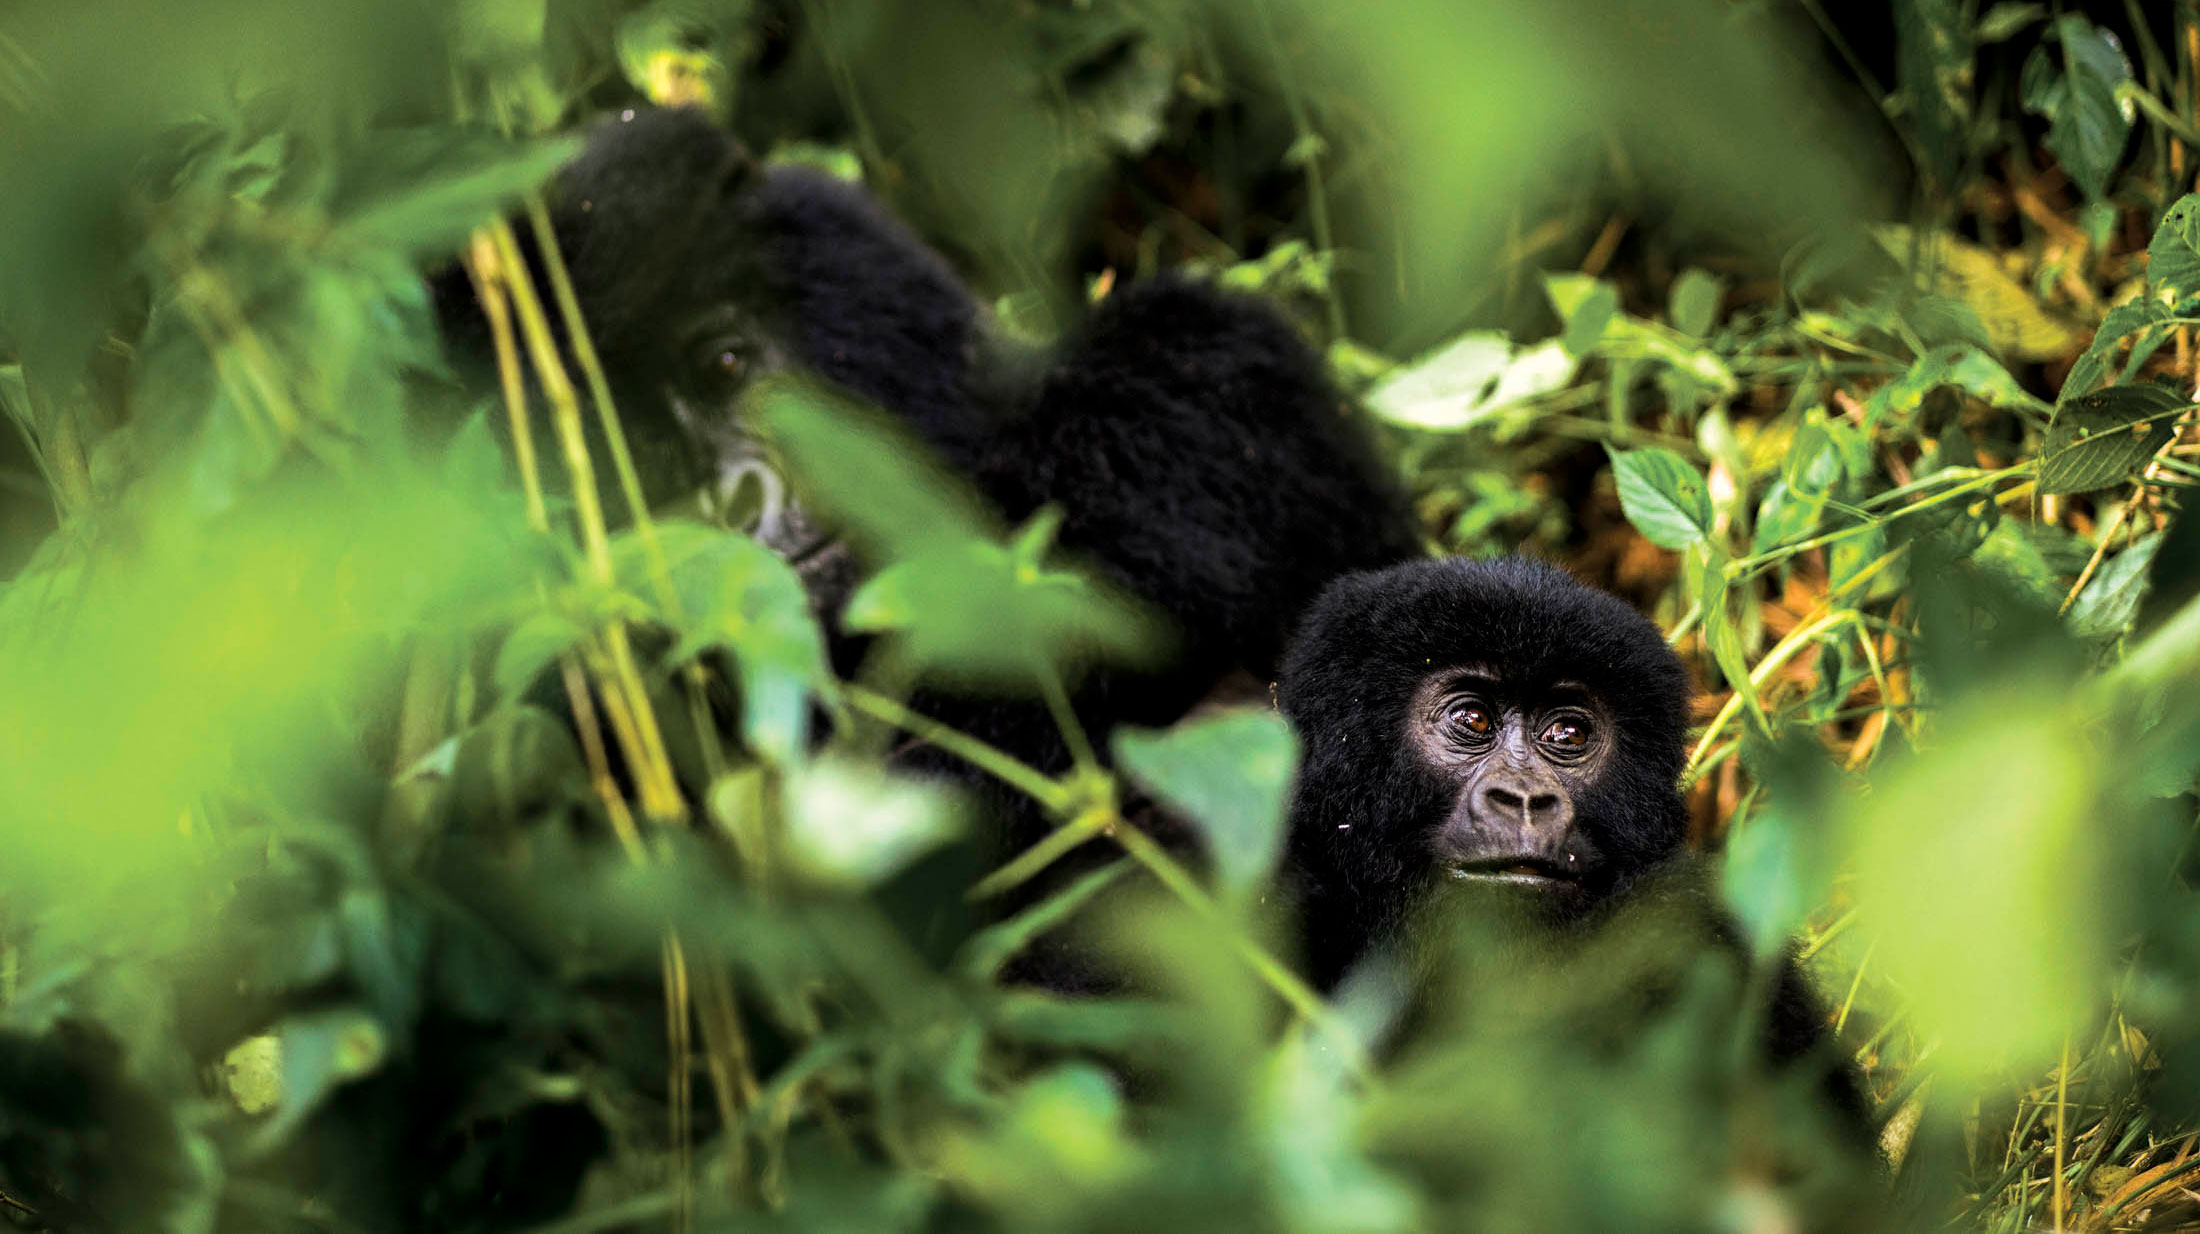Goriila: (1228, 506, 1878, 1116)
